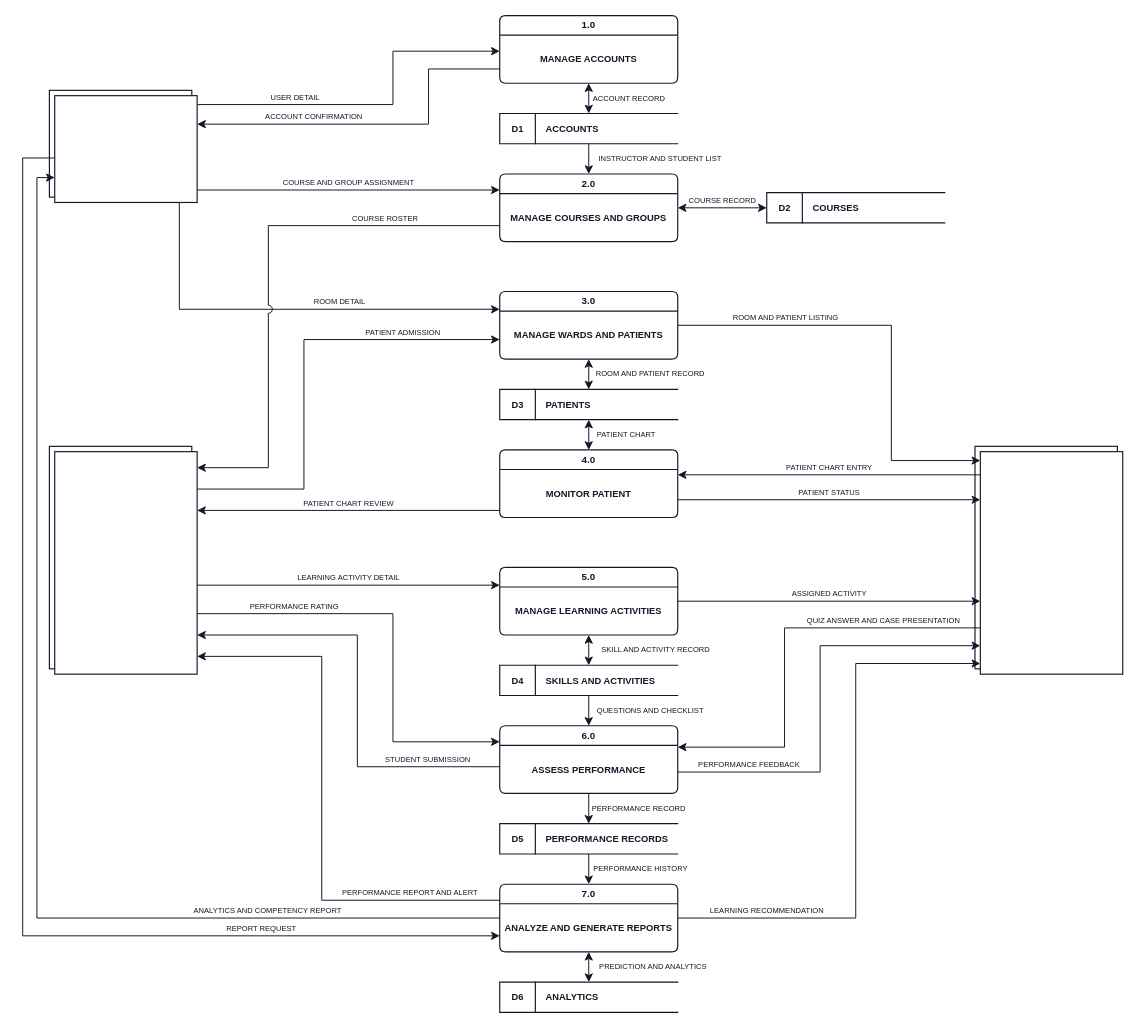
Some shapes in this 1139 by 1029 pixel diagram are drawn without their labels. The shapes that lost their labels are listed below. From the top down, each one's centre as x and y in pixels, then its label:
the point at 125,149: DEAN
the point at 125,562: INSTRUCTOR
the point at 1051,562: STUDENT
